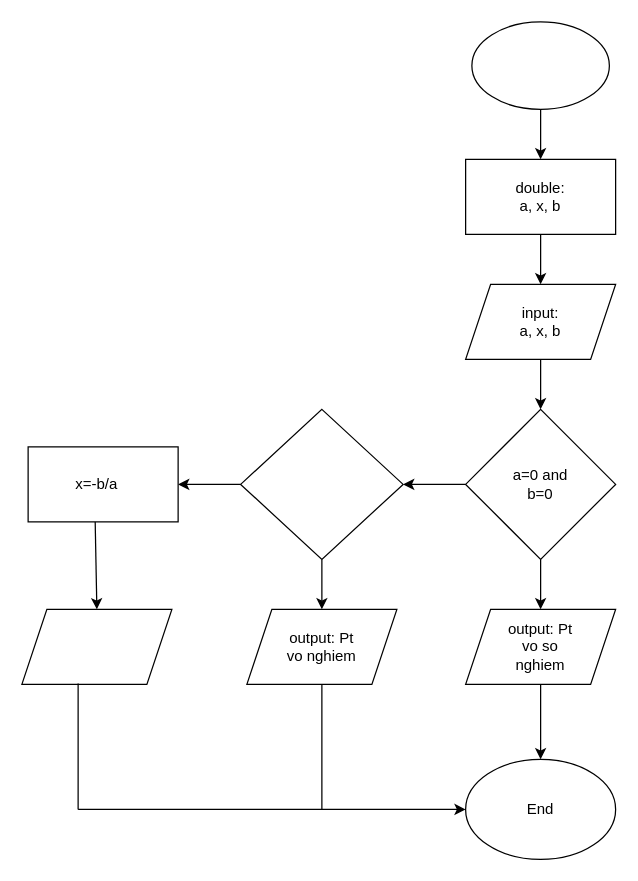
This 638x881 diagram has some shape labels left out. The centre of each missing label's shape, as x and y in pixels:
a=0 and b!=0: (321,483)
output: Pt co 1 nghiem la x: (96,646)
Start: (540,65)
